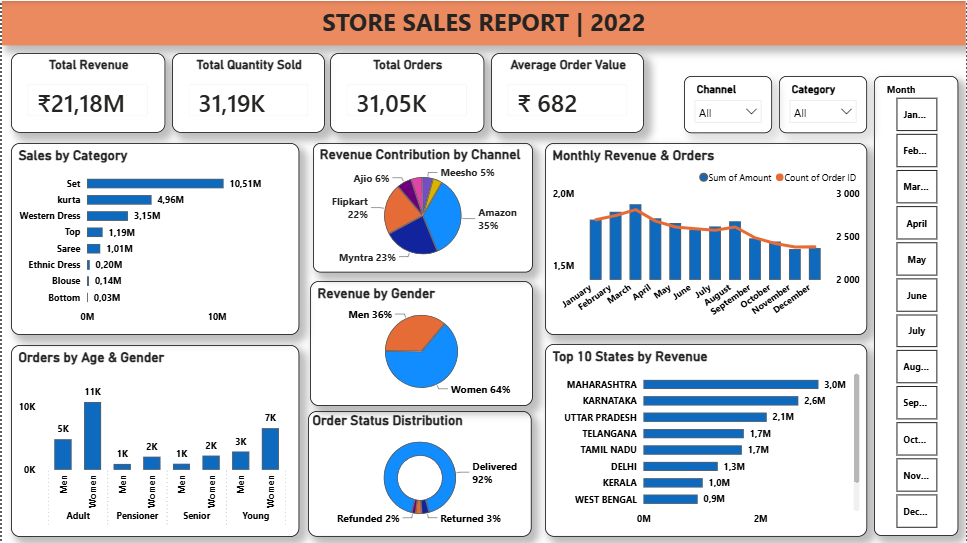

This screenshot's page, from the dashboard's own definition file:
{"tool":"powerbi","page":{"name":"Page 1","canvas":[1280,720],"ordinal":0},"visuals":[{"type":"textbox","box":[0,0,1280.5,58.5],"z":0},{"type":"lineClusteredColumnComboChart","title":"Monthly Revenue & Orders","fields":{"Category":["VrindaStore.Date.Variation.Date Hierarchy.Month"],"Y":["Sum(VrindaStore.Amount)"],"Y2":["CountNonNull(VrindaStore.Order ID)"]},"box":[721.2,188.6,428,254.6],"z":1000},{"type":"columnChart","title":"Orders by Age & Gender","fields":{"Y":["CountNonNull(VrindaStore.Order ID)"],"Category":["VrindaStore.AgeGroup","VrindaStore.Gender"]},"box":[12.4,456.9,382.6,254.6],"z":2000},{"type":"donutChart","title":"Order Status Distribution","fields":{"Category":["VrindaStore.Status"],"Y":["CountNonNull(VrindaStore.Order ID)"]},"box":[407,545,297.3,166.5],"z":3000},{"type":"barChart","title":"Top 10 States by Revenue","fields":{"Category":["VrindaStore.ship-state"],"Y":["Sum(VrindaStore.Amount)"]},"box":[721.2,455.6,428,256],"z":4000},{"type":"pieChart","title":"Revenue by Gender","fields":{"Category":["VrindaStore.Gender"],"Y":["Sum(VrindaStore.Amount)"]},"box":[409.2,372,296.2,166.1],"z":5000},{"type":"pieChart","title":"Revenue Contribution by Channel","fields":{"Category":["VrindaStore.Channel "],"Y":["CountNonNull(VrindaStore.Order ID)"]},"box":[412.9,188.6,291.8,172],"z":6000},{"type":"cardVisual","title":"Total Revenue","fields":{"Data":["Sum(VrindaStore.Amount)"]},"box":[12,69.1,204.6,106.3],"z":7000},{"type":"cardVisual","title":"Total Quantity Sold","fields":{"Data":["Sum(VrindaStore.Qty)"]},"box":[225.8,69.1,203.2,106.3],"z":8000},{"type":"slicer","fields":{"Values":["VrindaStore.Date.Variation.Date Hierarchy.Month"]},"box":[1158.4,99.6,111.6,611.1],"z":9000},{"type":"slicer","fields":{"Values":["VrindaStore.Category"]},"box":[1032.2,99.6,116.9,75.7],"z":10000},{"type":"slicer","fields":{"Values":["VrindaStore.Channel "]},"box":[906,99.6,116.9,75.7],"z":11000},{"type":"barChart","title":"Sales by Category","fields":{"Category":["VrindaStore.Category"],"Y":["Sum(VrindaStore.Amount)"]},"box":[12.4,188.6,382.6,254.6],"z":12000},{"type":"cardVisual","title":"Total Orders","fields":{"Data":["CountNonNull(VrindaStore.Order ID)"]},"box":[435.7,69.1,204.6,106.3],"z":13000},{"type":"cardVisual","title":"Average Order Value","fields":{"Data":["VrindaStore.AOV"]},"box":[649.6,69.1,203.2,106.3],"z":14000}]}

Visuals, with their boxes in screenshot pixels (x1, y1, x2, y2), scaled from the page's 1280x720 canvas onto the 967x543 screenshot:
textbox: detection(0, 0, 966, 44)
"Monthly Revenue & Orders" lineClusteredColumnComboChart: detection(545, 142, 868, 334)
"Orders by Age & Gender" columnChart: detection(9, 345, 298, 537)
"Order Status Distribution" donutChart: detection(307, 411, 532, 537)
"Top 10 States by Revenue" barChart: detection(545, 344, 868, 537)
"Revenue by Gender" pieChart: detection(309, 281, 533, 406)
"Revenue Contribution by Channel" pieChart: detection(312, 142, 532, 272)
"Total Revenue" cardVisual: detection(9, 52, 164, 132)
"Total Quantity Sold" cardVisual: detection(171, 52, 324, 132)
slicer - VrindaStore.Date.Variation.Date Hierarchy.Month: detection(875, 75, 959, 536)
slicer - VrindaStore.Category: detection(780, 75, 868, 132)
slicer - VrindaStore.Channel : detection(684, 75, 773, 132)
"Sales by Category" barChart: detection(9, 142, 298, 334)
"Total Orders" cardVisual: detection(329, 52, 484, 132)
"Average Order Value" cardVisual: detection(491, 52, 644, 132)
